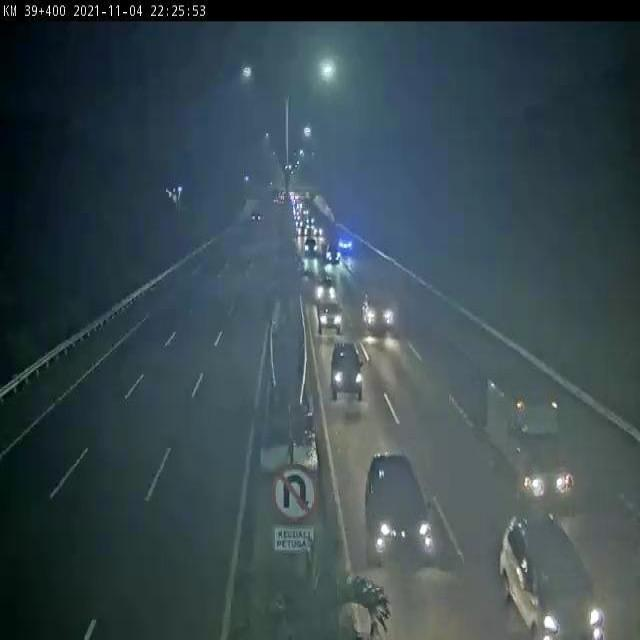car: (508, 513, 592, 623), (372, 468, 438, 571), (333, 347, 372, 405), (365, 287, 398, 341), (317, 297, 344, 332), (316, 276, 335, 312), (301, 236, 318, 261), (341, 232, 352, 261), (325, 248, 341, 267)
truck-s-: (488, 371, 592, 506)
